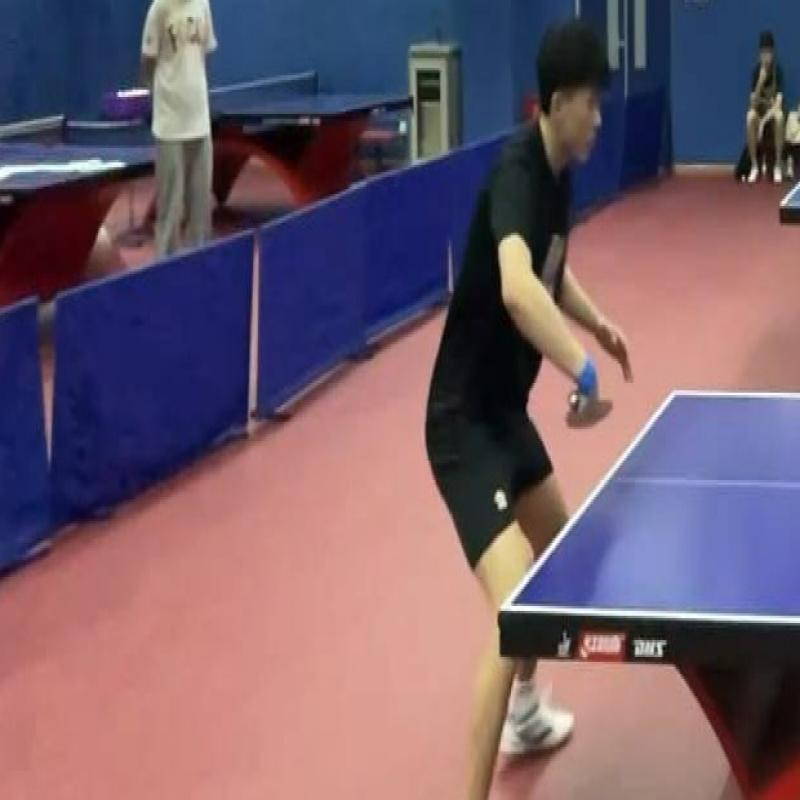bats: (562, 373, 624, 444)
